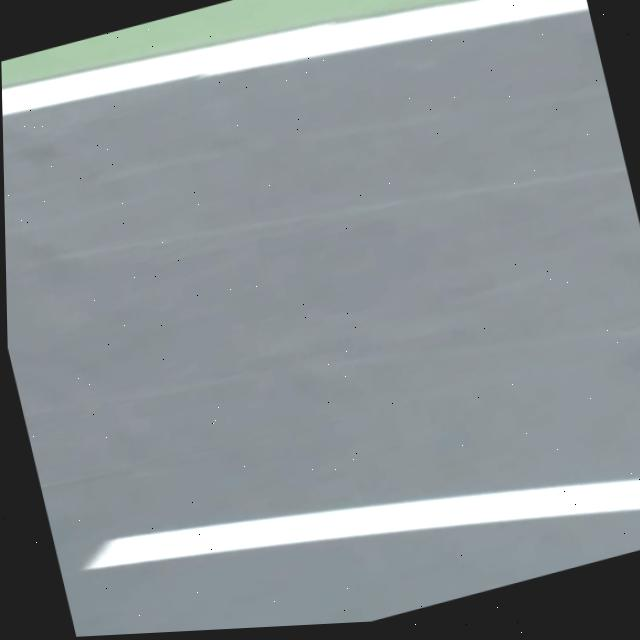center: (85, 479, 640, 568)
right: (2, 0, 589, 116)
